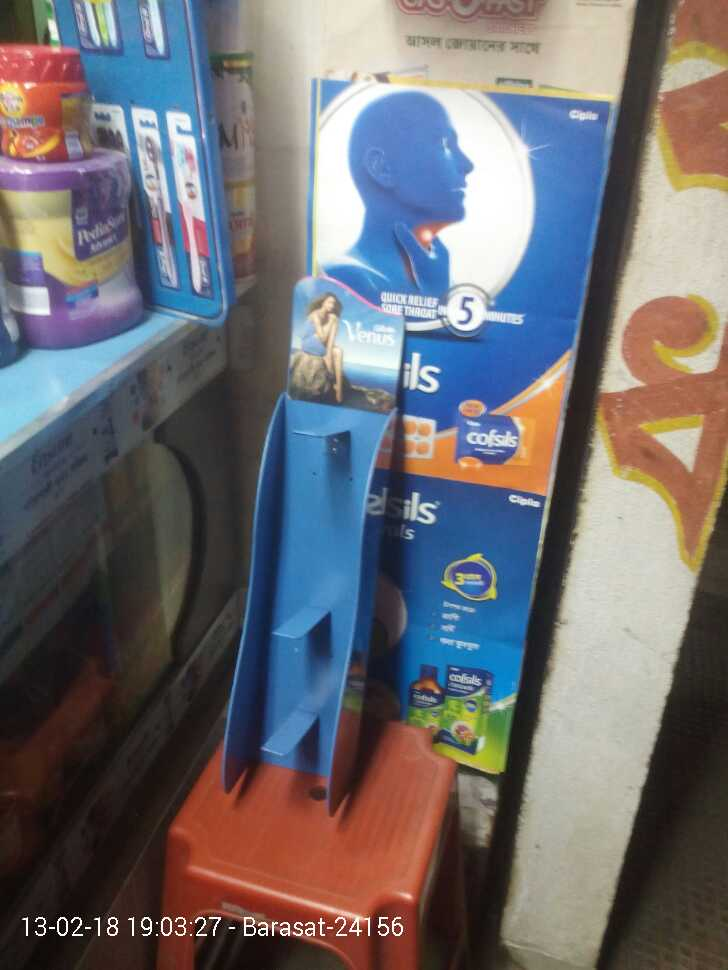reject: (275, 284, 403, 534)
